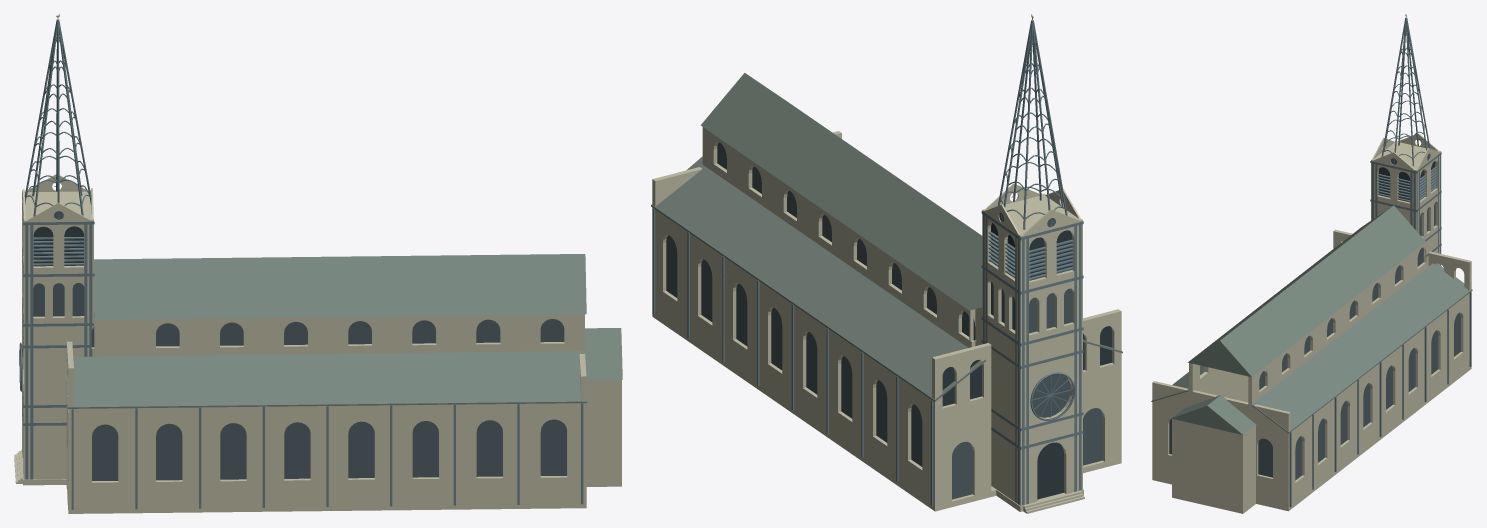
Rendered from cathedrale-saint-louis-fort-de-france-near.glb.
The picture shows the model from 3 angles, left to right: view 1: azimuth 30°, elevation 25°; view 2: azimuth 150°, elevation 25°; view 3: azimuth 270°, elevation 25°; orthographic projection. The views are drawn at different scales.
Parts seen in each view (by area): view 1: cathedrale-saint-louis-fort-de-france-0-plaster, cathedrale-saint-louis-fort-de-france-0-roof, cathedrale-saint-louis-fort-de-france-0-glass, cathedrale-saint-louis-fort-de-france-0-metal, cathedrale-saint-louis-fort-de-france-0-lattice, cathedrale-saint-louis-fort-de-france-0-brace, cathedrale-saint-louis-fort-de-france-0-shadow; view 2: cathedrale-saint-louis-fort-de-france-0-plaster, cathedrale-saint-louis-fort-de-france-0-roof, cathedrale-saint-louis-fort-de-france-0-metal, cathedrale-saint-louis-fort-de-france-0-glass, cathedrale-saint-louis-fort-de-france-0-shadow, cathedrale-saint-louis-fort-de-france-0-lattice, cathedrale-saint-louis-fort-de-france-0-brace; view 3: cathedrale-saint-louis-fort-de-france-0-plaster, cathedrale-saint-louis-fort-de-france-0-roof, cathedrale-saint-louis-fort-de-france-0-glass, cathedrale-saint-louis-fort-de-france-0-metal, cathedrale-saint-louis-fort-de-france-0-lattice, cathedrale-saint-louis-fort-de-france-0-brace, cathedrale-saint-louis-fort-de-france-0-shadow.
Part boxes in pixels (x1,y1,x2,y2): cathedrale-saint-louis-fort-de-france-0-plaster: (14, 174, 621, 513); cathedrale-saint-louis-fort-de-france-0-roof: (66, 254, 622, 408); cathedrale-saint-louis-fort-de-france-0-glass: (33, 211, 566, 480); cathedrale-saint-louis-fort-de-france-0-metal: (19, 186, 583, 509); cathedrale-saint-louis-fort-de-france-0-lattice: (24, 19, 91, 220); cathedrale-saint-louis-fort-de-france-0-brace: (25, 37, 90, 206); cathedrale-saint-louis-fort-de-france-0-shadow: (33, 226, 83, 266); cathedrale-saint-louis-fort-de-france-0-plaster: (652, 127, 1121, 513); cathedrale-saint-louis-fort-de-france-0-roof: (651, 73, 1122, 401); cathedrale-saint-louis-fort-de-france-0-metal: (652, 194, 1083, 505); cathedrale-saint-louis-fort-de-france-0-glass: (666, 142, 1102, 499); cathedrale-saint-louis-fort-de-france-0-shadow: (942, 223, 1111, 499); cathedrale-saint-louis-fort-de-france-0-lattice: (998, 20, 1067, 229); cathedrale-saint-louis-fort-de-france-0-brace: (999, 39, 1065, 218); cathedrale-saint-louis-fort-de-france-0-plaster: (1152, 133, 1471, 513); cathedrale-saint-louis-fort-de-france-0-roof: (1151, 205, 1472, 434); cathedrale-saint-louis-fort-de-france-0-glass: (1169, 153, 1460, 480); cathedrale-saint-louis-fort-de-france-0-metal: (1289, 145, 1471, 507); cathedrale-saint-louis-fort-de-france-0-lattice: (1381, 17, 1430, 166); cathedrale-saint-louis-fort-de-france-0-brace: (1383, 31, 1429, 158); cathedrale-saint-louis-fort-de-france-0-shadow: (1378, 161, 1435, 202).
Size of the model in its own units: 67.25 by 58.8 by 50.71.
